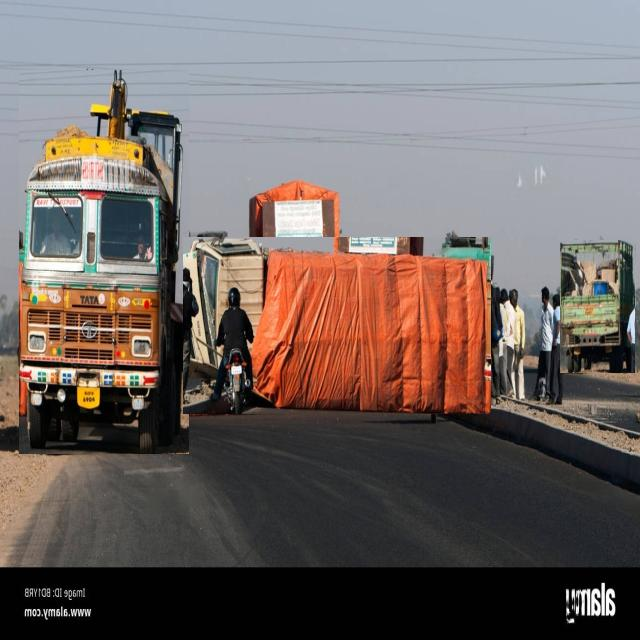accident: (183, 238, 490, 414)
truck: (19, 71, 189, 454), (560, 241, 635, 373)
